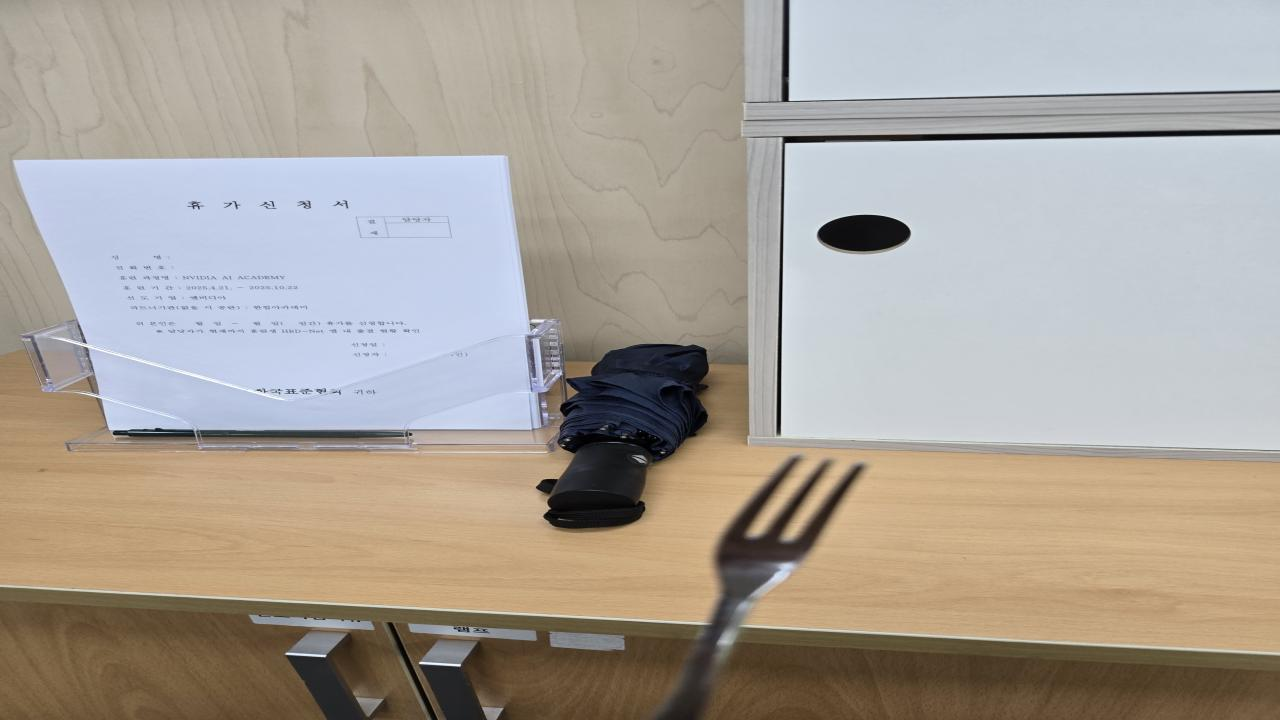fork: (654, 452, 870, 720)
